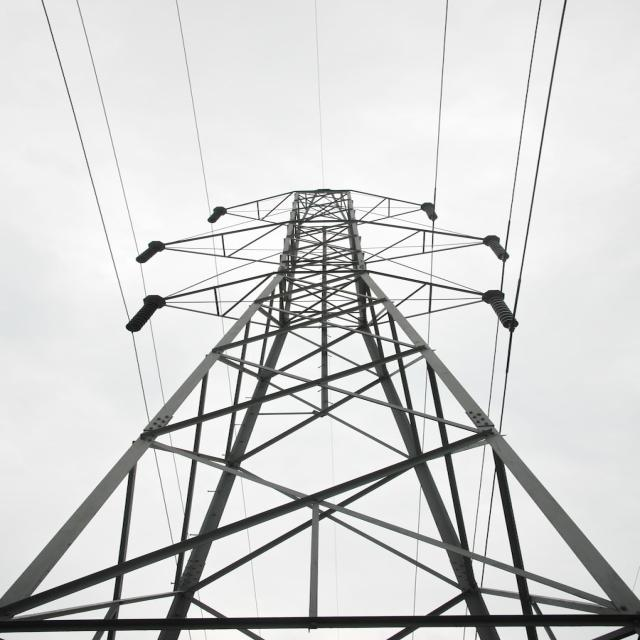transmission tower: (11, 104, 640, 640)
